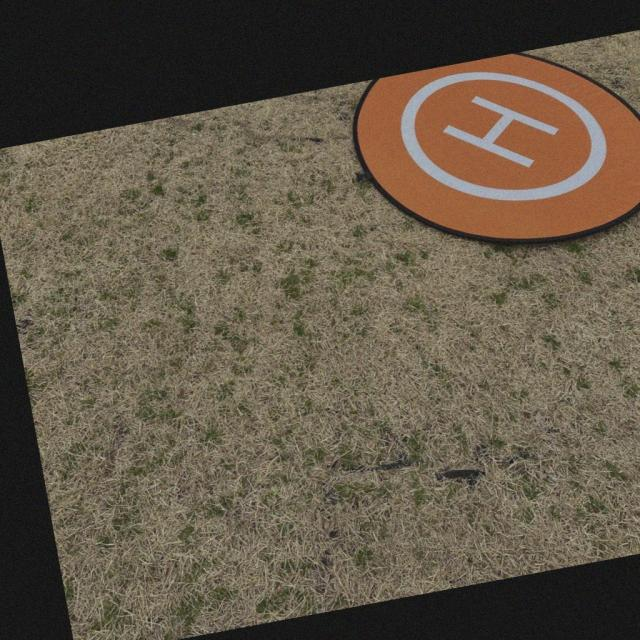helipad: (394, 67, 610, 205)
